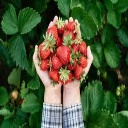strawberry: (44, 20, 58, 51), (56, 46, 73, 66), (59, 66, 74, 85)
